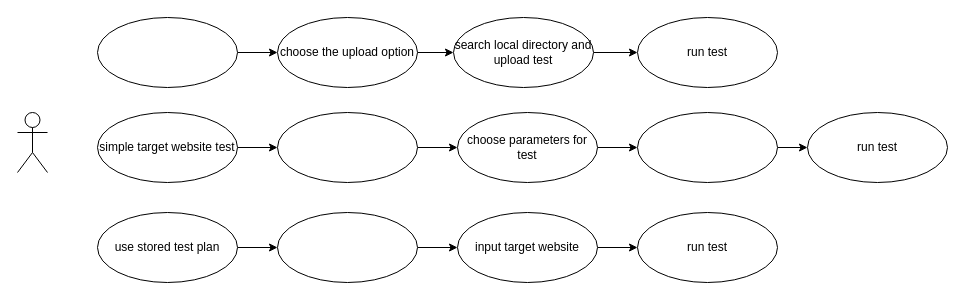
The diagram is 965 pixels wide and 300 high, and some of its shapes have lost their labels. The centre of each missing label's shape, as x and y in pixels:
"Input target website URL" goes at point (347, 147).
"select the test plan uploaded previously" goes at point (347, 247).
"Tweak the parameters to better suits the test" goes at point (707, 147).
"upload test plan" goes at point (167, 52).
"user" goes at point (32, 142).
